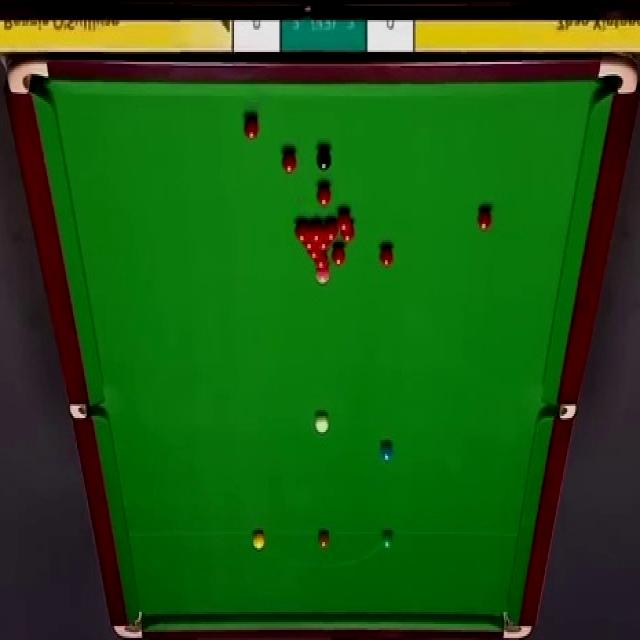pocket: (597, 55, 639, 97), (5, 57, 51, 95), (500, 608, 532, 640), (112, 611, 147, 640), (68, 404, 106, 422), (541, 405, 576, 420)
